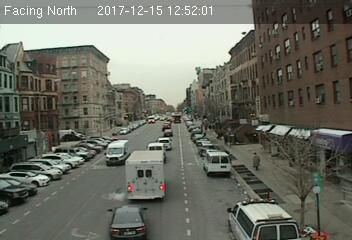car: (105, 205, 150, 237), (156, 137, 172, 150)
pedestrian: (251, 155, 262, 173)
police: (225, 197, 301, 240)
truck: (126, 149, 166, 201), (202, 151, 232, 175), (105, 139, 130, 165)
